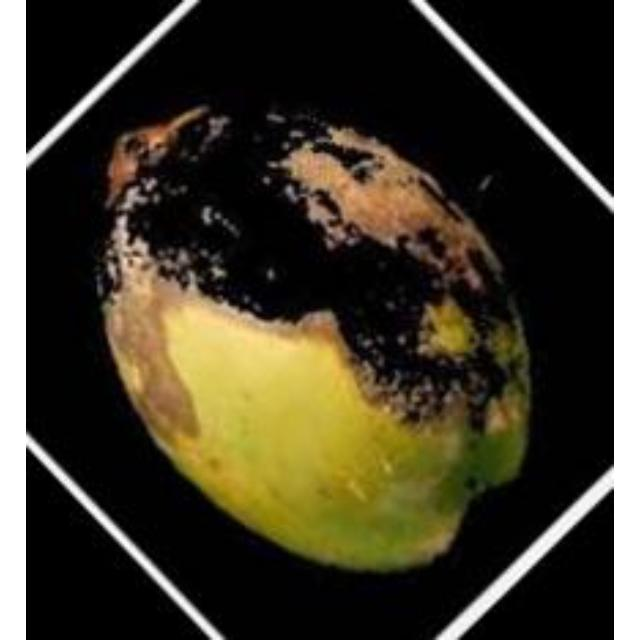damaged: (97, 98, 532, 577)
